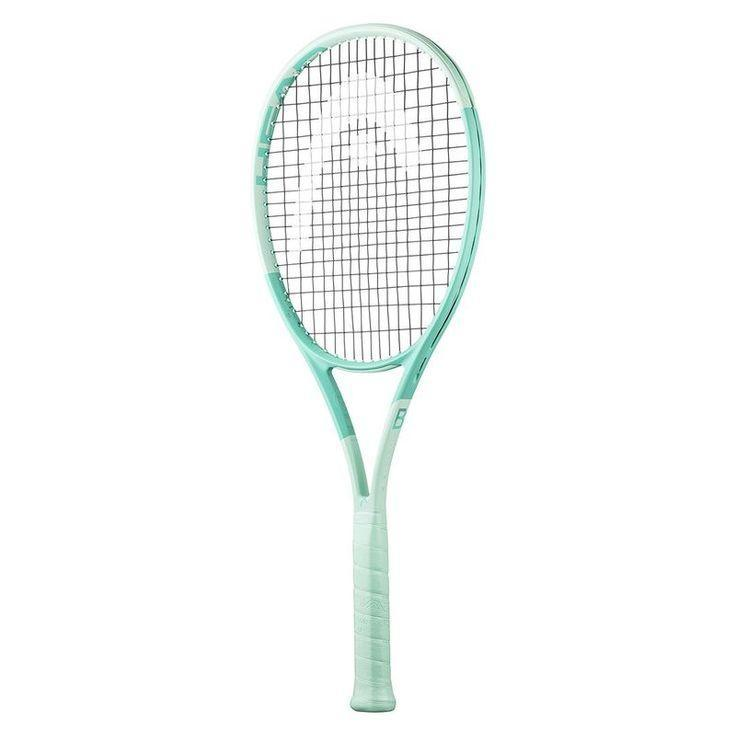Tennis-Racket: (250, 23, 484, 708)
